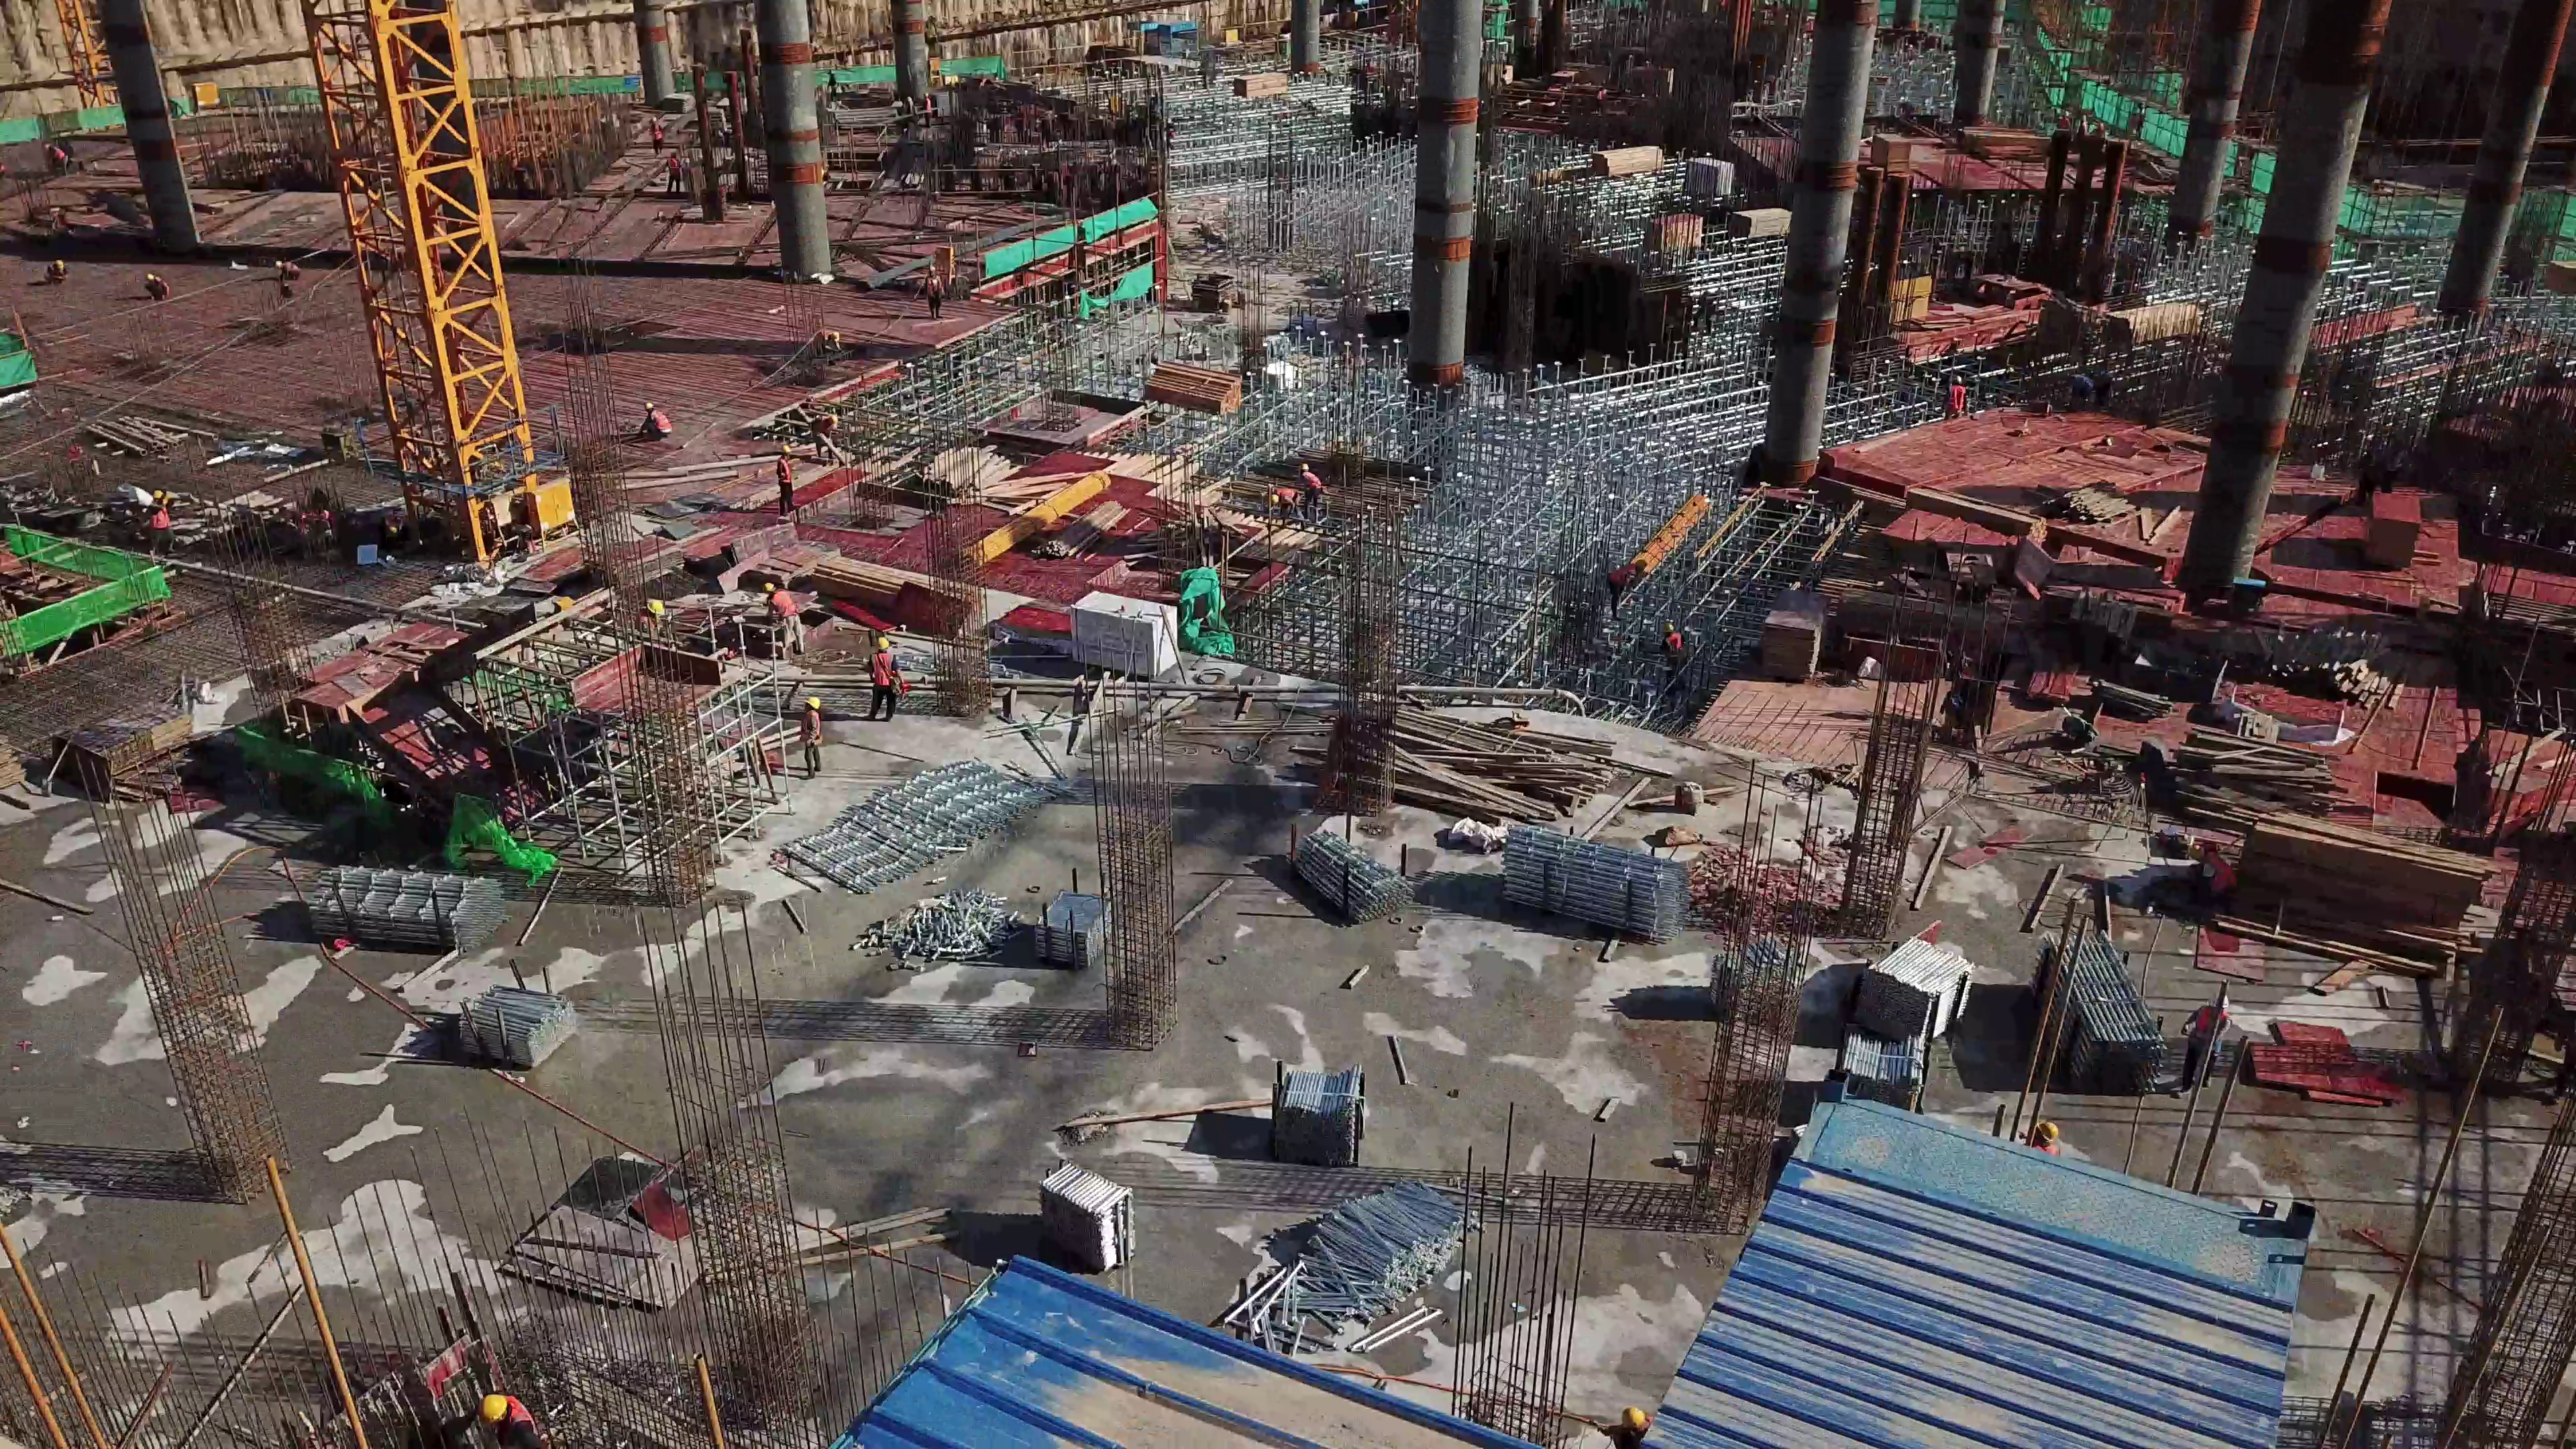helmet: (473, 1393, 511, 1431), (2028, 1116, 2060, 1153), (1617, 1409, 1648, 1444), (2182, 842, 2206, 863), (649, 597, 666, 625), (758, 579, 780, 594), (273, 254, 288, 272), (781, 441, 797, 458), (48, 254, 62, 275), (877, 635, 890, 656), (152, 489, 166, 505), (1628, 560, 1646, 576), (825, 330, 840, 345), (142, 270, 159, 283), (811, 692, 823, 707), (642, 398, 655, 413), (674, 149, 684, 164), (1951, 373, 1966, 384), (924, 270, 939, 280), (36, 142, 47, 152), (825, 415, 835, 426), (1659, 619, 1672, 628), (1299, 463, 1309, 472), (651, 117, 662, 123), (1270, 495, 1276, 502)
person: (2179, 986, 2232, 1104), (793, 692, 840, 783), (759, 578, 806, 664), (2184, 840, 2235, 918), (875, 631, 910, 727), (139, 482, 180, 561), (770, 450, 808, 532), (1604, 554, 1646, 617), (636, 400, 676, 447), (1295, 464, 1329, 518), (1660, 617, 1682, 678), (42, 140, 76, 179), (811, 413, 839, 458), (273, 254, 299, 299), (1263, 485, 1297, 520), (920, 266, 945, 315), (1947, 370, 1970, 416), (812, 329, 842, 364), (142, 270, 171, 305), (667, 150, 686, 191), (651, 115, 663, 152), (921, 89, 933, 129), (47, 258, 67, 278)
vest: (2202, 855, 2235, 895), (2191, 1009, 2220, 1053), (797, 713, 823, 749), (764, 594, 805, 616), (146, 499, 170, 536), (1945, 382, 1970, 415), (875, 663, 895, 698), (774, 455, 793, 490), (648, 415, 669, 441), (280, 264, 296, 288), (1607, 566, 1627, 586), (1301, 482, 1328, 498), (48, 147, 68, 165), (925, 276, 941, 300), (817, 427, 837, 445), (1664, 627, 1677, 651), (1275, 489, 1290, 508), (814, 336, 829, 350), (146, 283, 166, 292)
